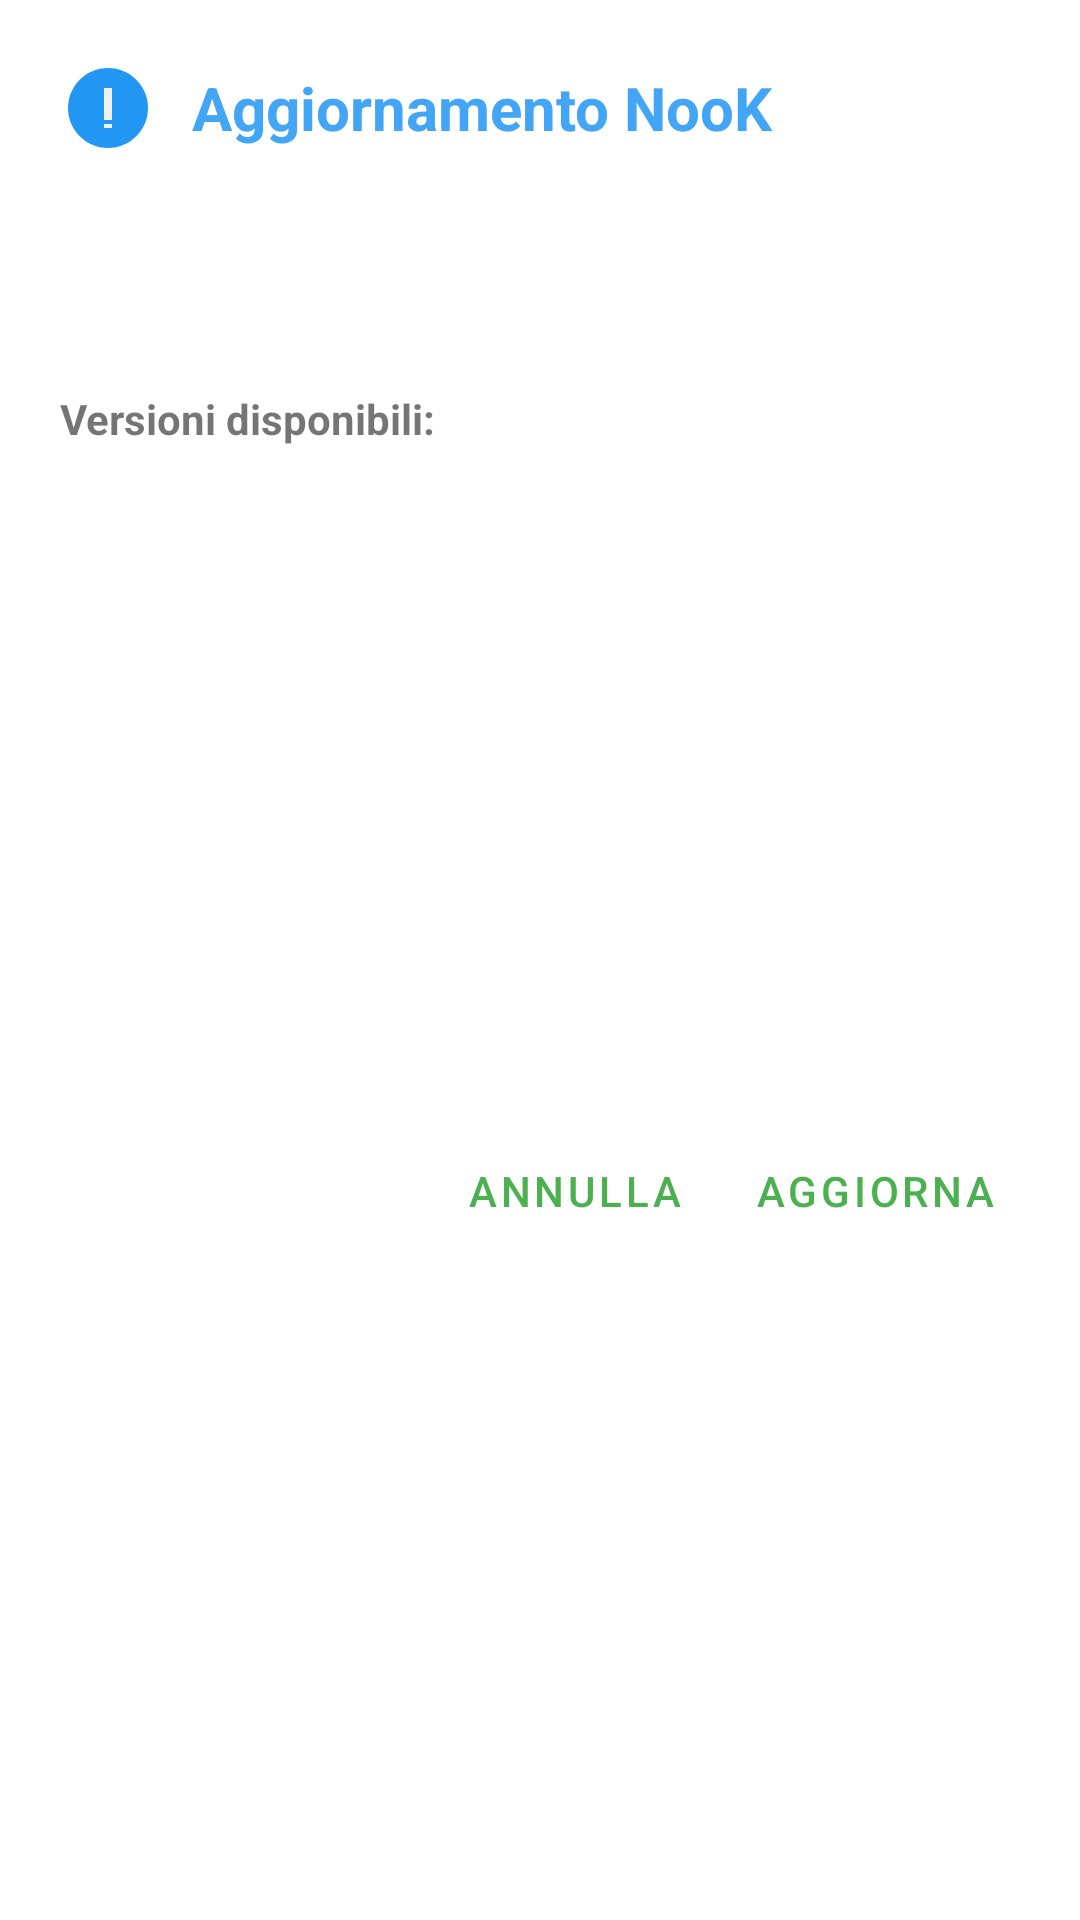

Screen size 1080w x 1920h. Icon name, then its box in pixels as [x1, y1, x2, y2]:
Aggiornamento disponibile: [68, 68, 148, 148]
